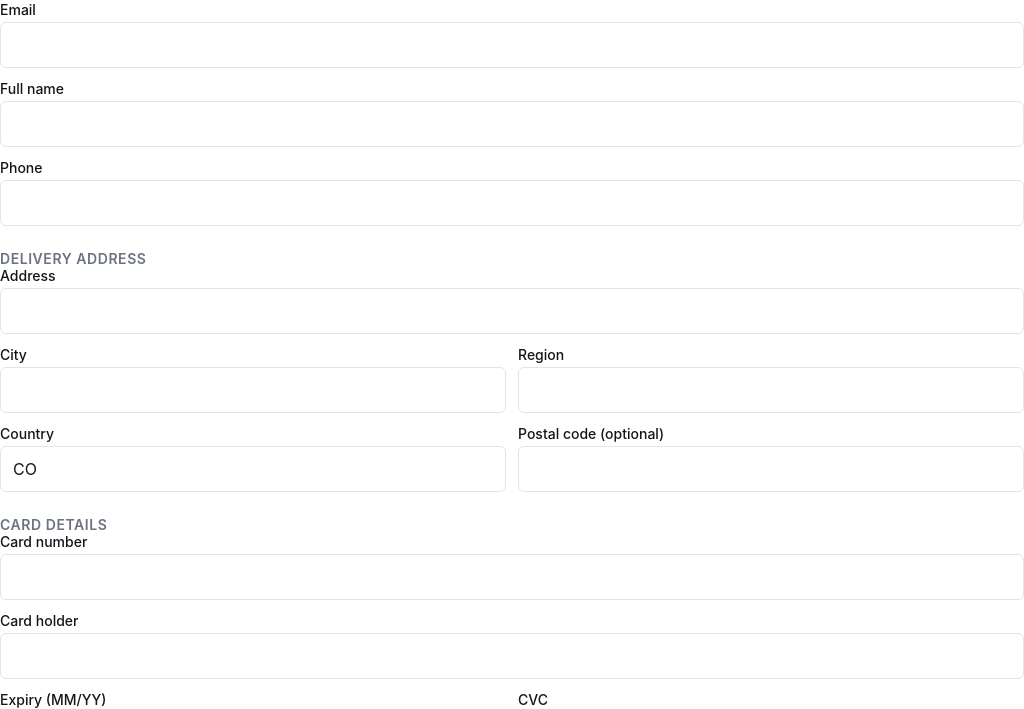
Test: CardDeliveryForm › formats the card number and expiry as the user types
The width and height of the screenshot is (1024, 709).
Type "4242424242424242" into the field labelled "Card number" at (512, 577), box [0,554,1023,600]
(page scrolled)
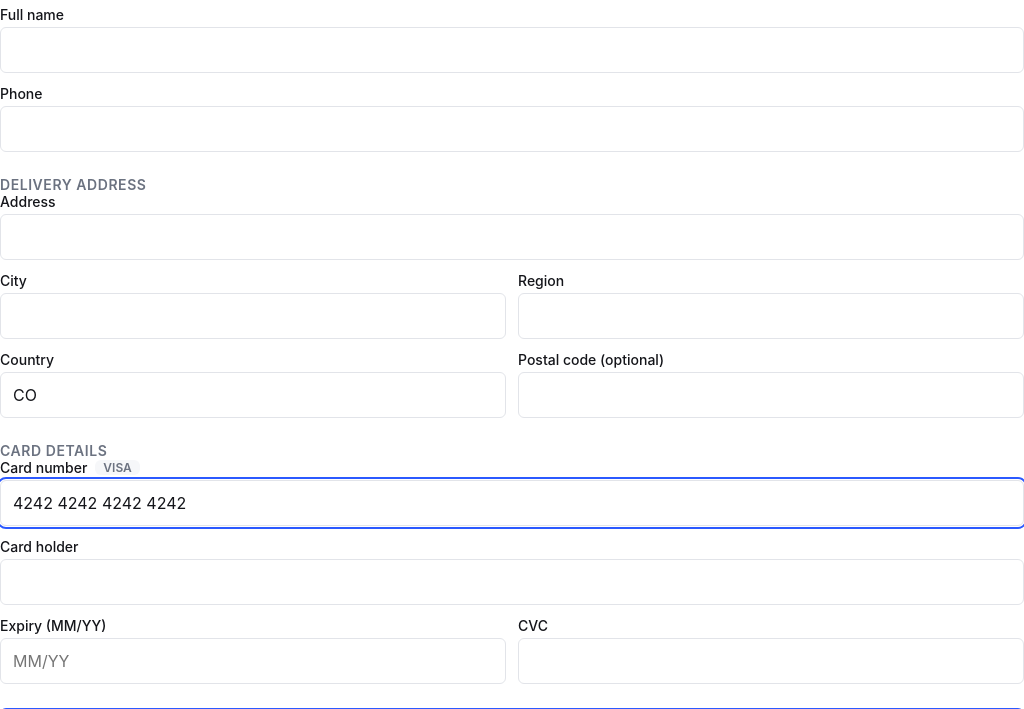
Type "1229" into the field labelled "Expiry (MM/YY)" at (253, 661), box [0,638,506,684]
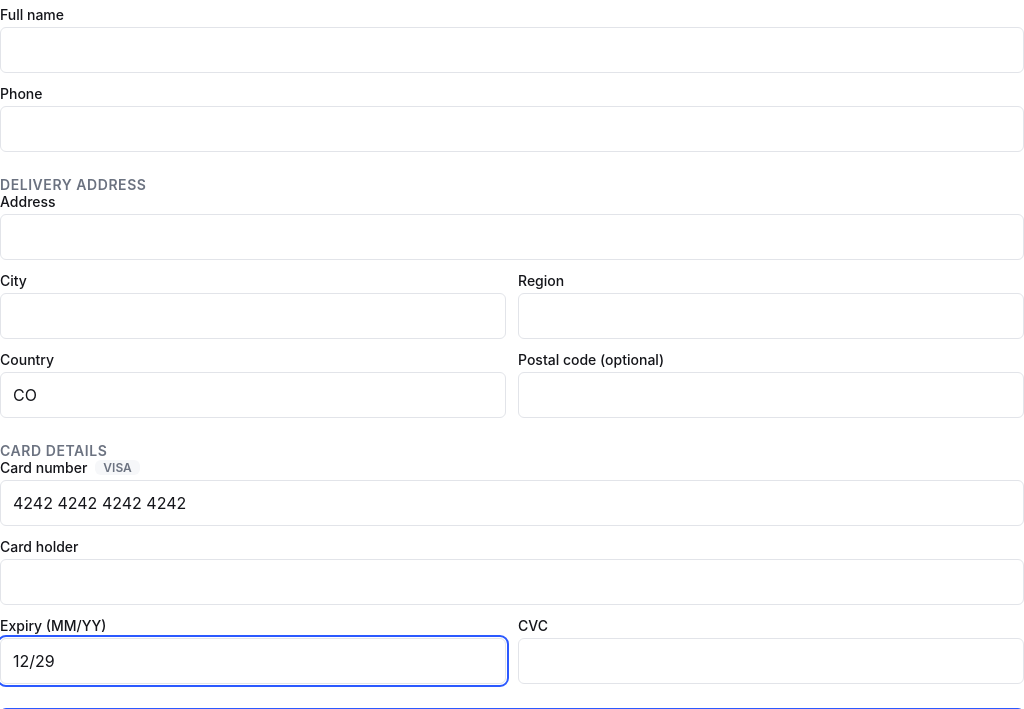
Now the field labelled "Card number Visa" holds "4242 4242 4242 4242", box [0,480,1023,526]
Now the field labelled "Expiry (MM/YY)" holds "12/29", box [0,638,506,684]
